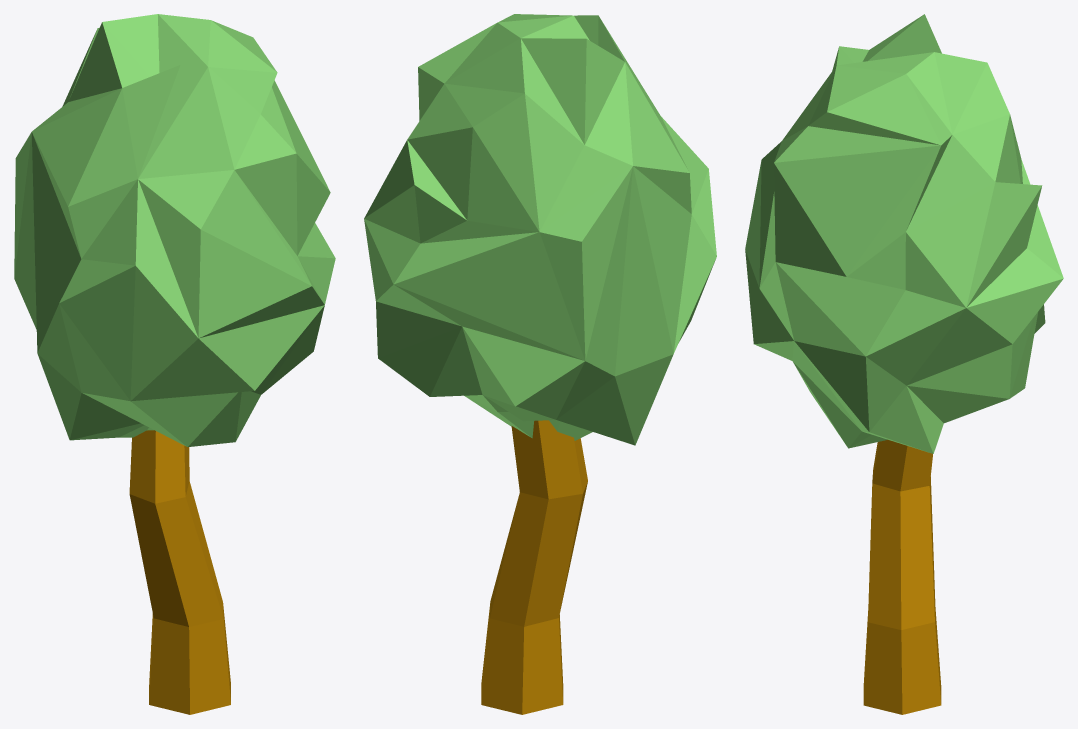
The model's file is tree2.fbx.
3 views of the same model, side by side, from view 1: azimuth 30°, elevation 25°; view 2: azimuth 150°, elevation 25°; view 3: azimuth 270°, elevation 25° (orthographic). The views are drawn at different scales.
Parts seen in each view (by area): view 1: grass_1:pCube4, stem_2:pCylinder1; view 2: grass_1:pCube4, stem_2:pCylinder1; view 3: grass_1:pCube4, stem_2:pCylinder1.
Part boxes in pixels (x1=…): grass_1:pCube4: x1=14, y1=14, x2=335, y2=446; stem_2:pCylinder1: x1=129, y1=430, x2=230, y2=714; grass_1:pCube4: x1=364, y1=14, x2=716, y2=445; stem_2:pCylinder1: x1=481, y1=420, x2=587, y2=714; grass_1:pCube4: x1=745, y1=14, x2=1063, y2=453; stem_2:pCylinder1: x1=863, y1=439, x2=941, y2=714.
Size of the model in its own units: 7.05 by 15.92 by 7.11.
